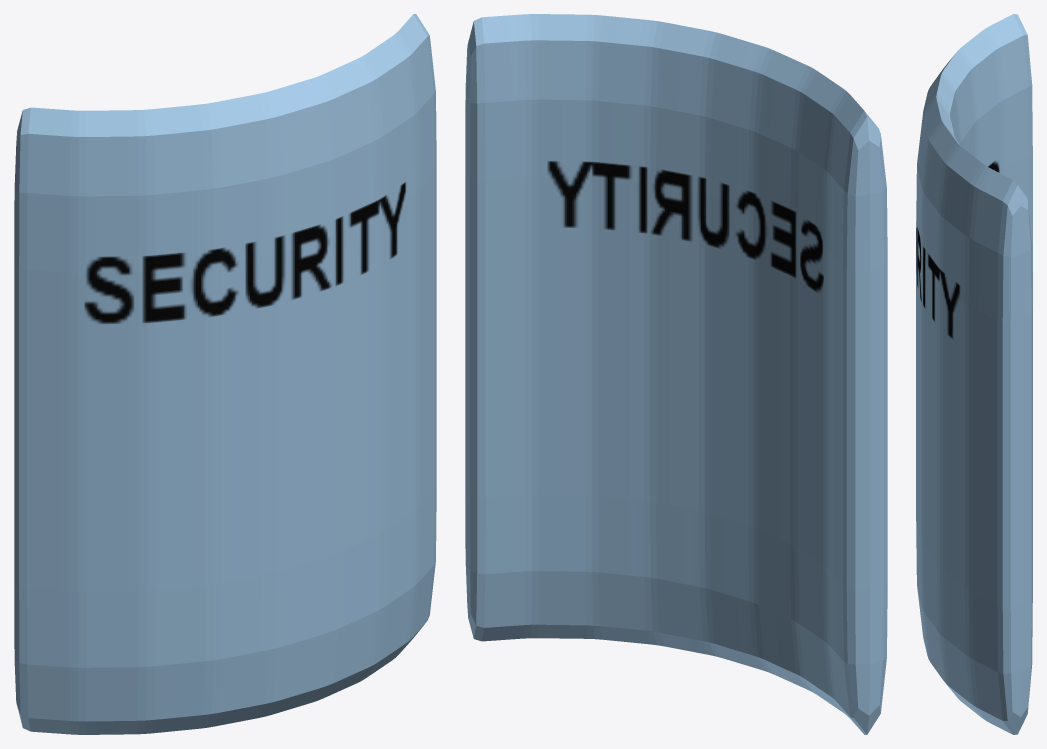
File: Sheild.fbx
3 renders of one model, left to right at view 1: azimuth 30°, elevation 25°; view 2: azimuth 150°, elevation 25°; view 3: azimuth 270°, elevation 25°, orthographic. The views are drawn at different scales.
Visible parts, largest first — view 1: Cylinder; view 2: Cylinder; view 3: Cylinder.
Part boxes in pixels (x1,y1,x2,y2): Cylinder: (14, 14, 436, 734); Cylinder: (465, 14, 887, 734); Cylinder: (916, 14, 1032, 734).
Bounding box in the file's own units: 137 × 196 × 37.35.
